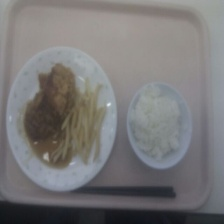rice: (128, 85, 186, 163)
